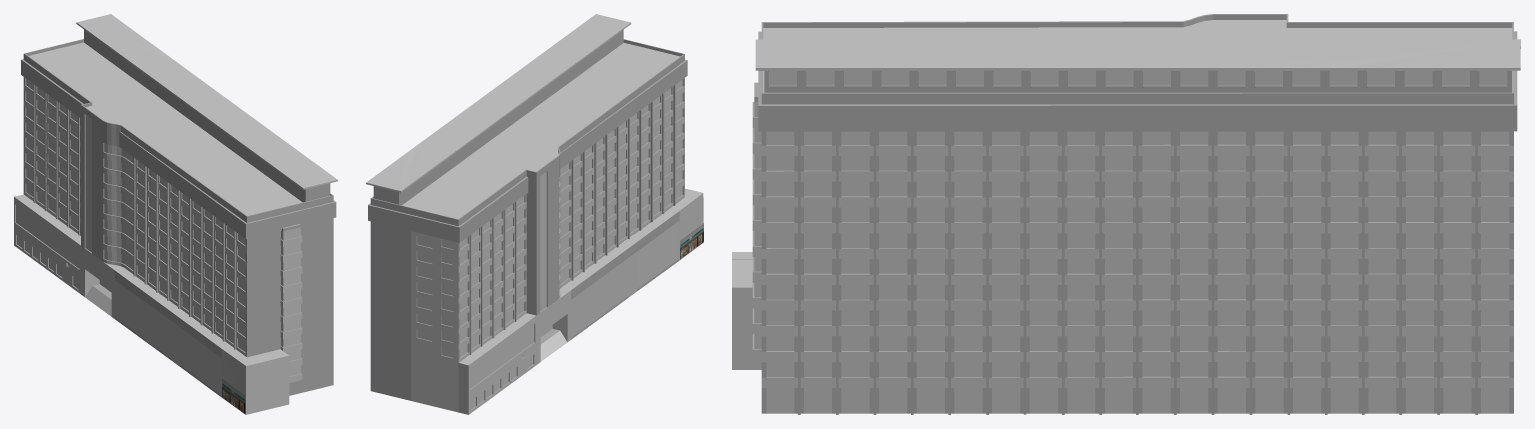
The model's file is building.fbx.
The picture shows the model from 3 angles, left to right: view 1: azimuth 30°, elevation 25°; view 2: azimuth 150°, elevation 25°; view 3: azimuth 270°, elevation 25°; orthographic projection. The views are drawn at different scales.
Visible parts, largest first — view 1: Plane001; view 2: Plane001; view 3: Plane001.
Part boxes in pixels (x1,y1,x2,y2): Plane001: (14, 14, 337, 414); Plane001: (366, 14, 703, 414); Plane001: (732, 14, 1520, 414).
Size of the model in its own units: 46.98 by 92.94 by 191.
